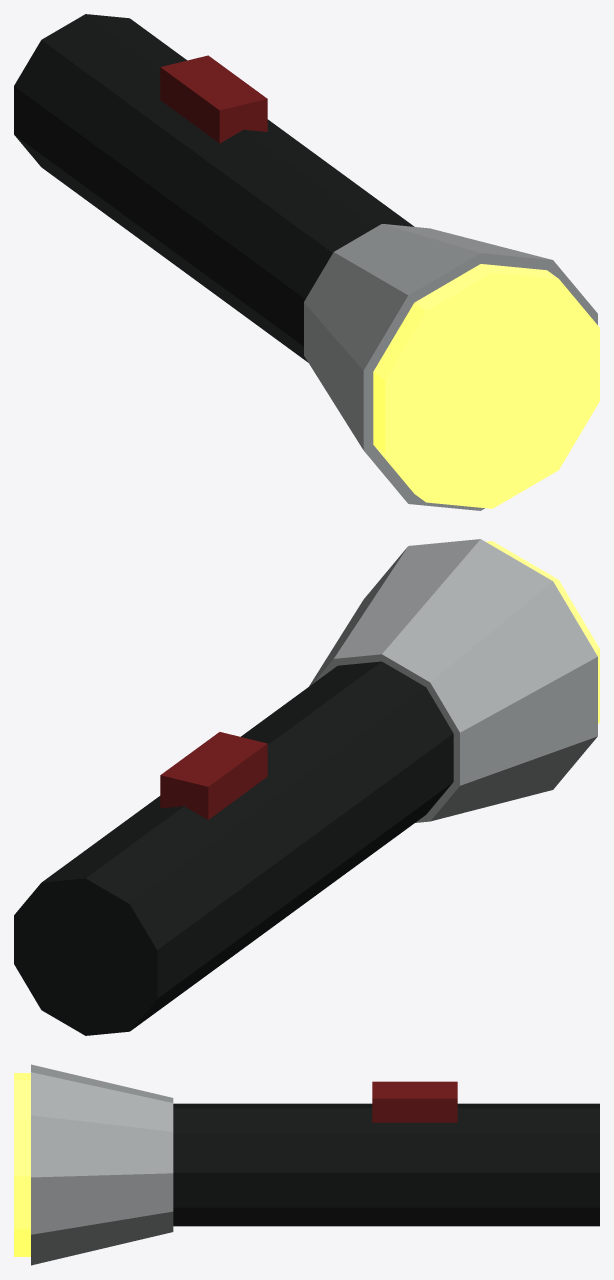
The model's file is den_pin.glb.
3 views of the same model, one above another, from view 1: azimuth 30°, elevation 25°; view 2: azimuth 150°, elevation 25°; view 3: azimuth 270°, elevation 25° (orthographic). The views are drawn at different scales.
Visible parts, largest first — view 1: den_pin; view 2: den_pin; view 3: den_pin.
Boxes of the visible parts, x1,y1,x2,y2 form: den_pin: (14, 14, 599, 510); den_pin: (14, 539, 599, 1035); den_pin: (14, 1064, 599, 1265).
Bounding box in the file's own units: 0.0685 × 0.072 × 0.206.
